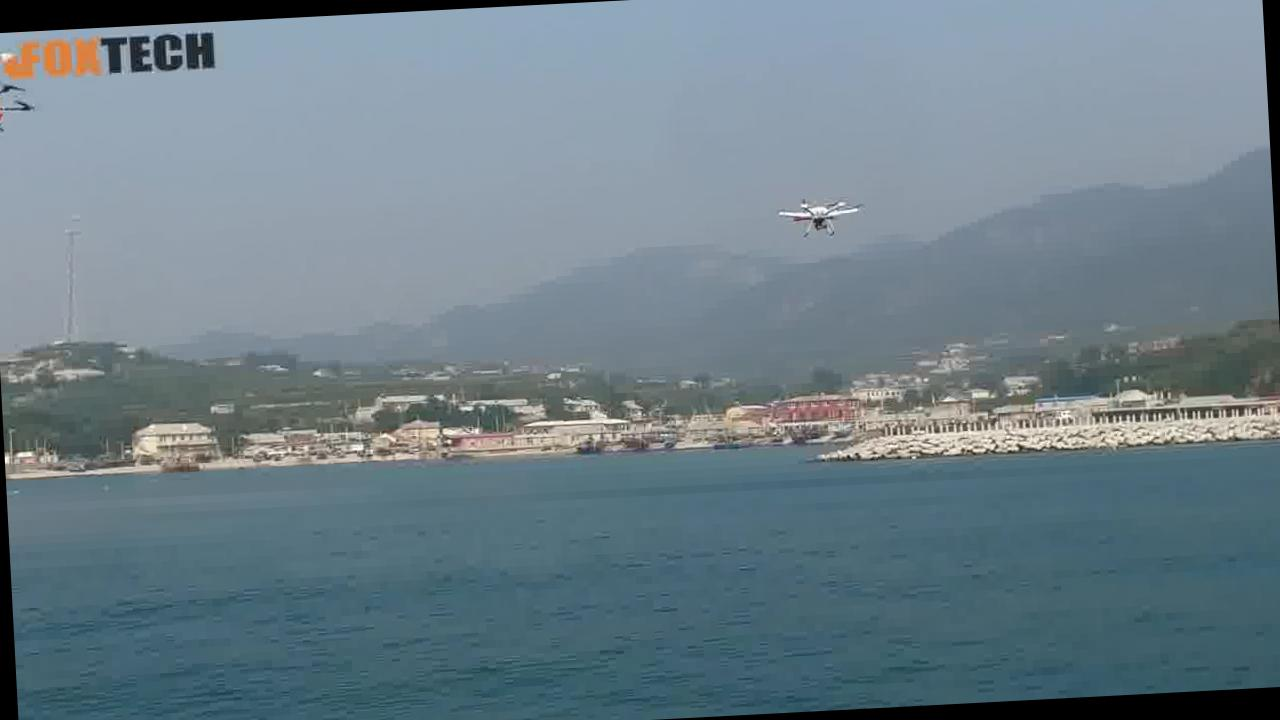drone: (761, 183, 884, 242)
